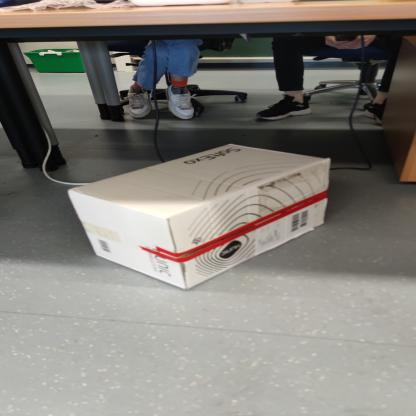box: (42, 128, 389, 284)
